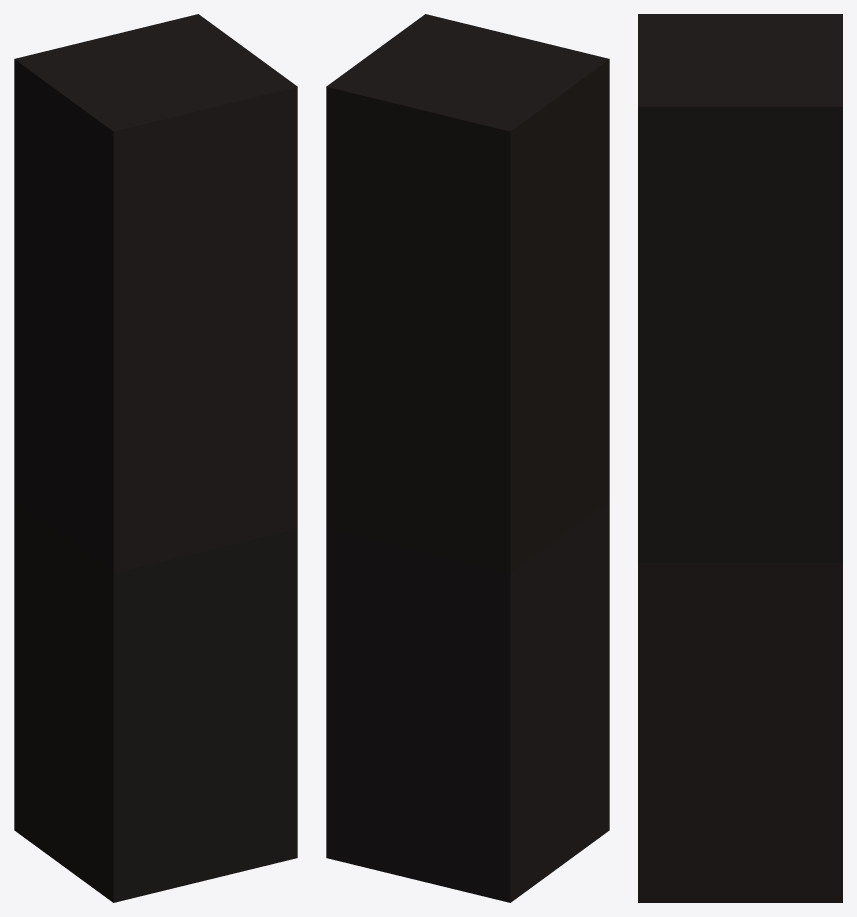
File: Angara12_Trigger.glb
3 renders of one model, left to right at view 1: azimuth 30°, elevation 25°; view 2: azimuth 150°, elevation 25°; view 3: azimuth 270°, elevation 25°, orthographic. The views are drawn at different scales.
Visible parts, largest first — view 1: Trigger; view 2: Trigger; view 3: Trigger.
Part boxes in pixels (left/top/right/bottom): Trigger: left=14, top=14, right=297, bottom=902; Trigger: left=326, top=14, right=609, bottom=902; Trigger: left=638, top=14, right=842, bottom=902.
Bounding box in the file's own units: 0.006 × 0.024 × 0.0056.
Materials: 1 (1 with a texture image).
